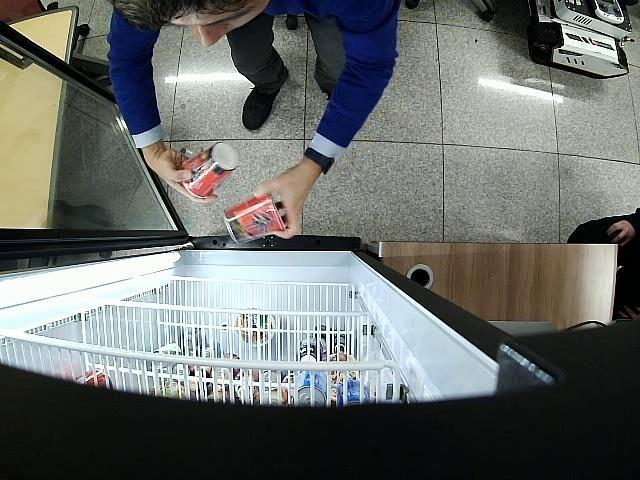02_shinRamen_S: (223, 192, 286, 244), (180, 142, 238, 198)
